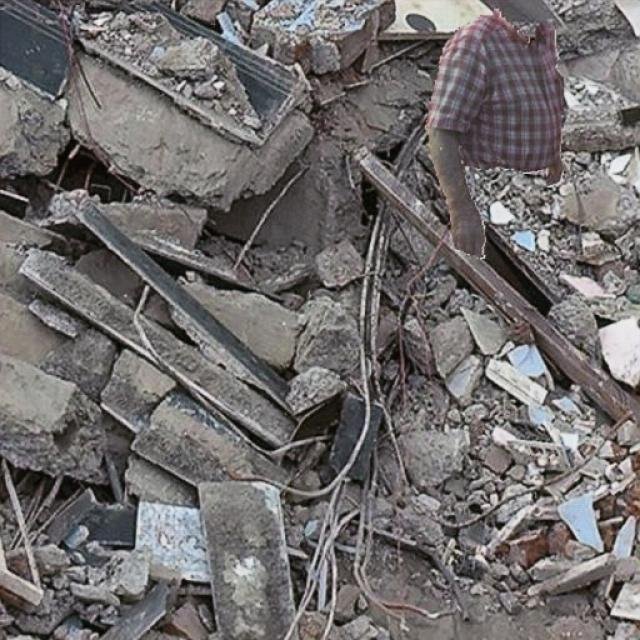Person in Rubble: (425, 9, 563, 258)
